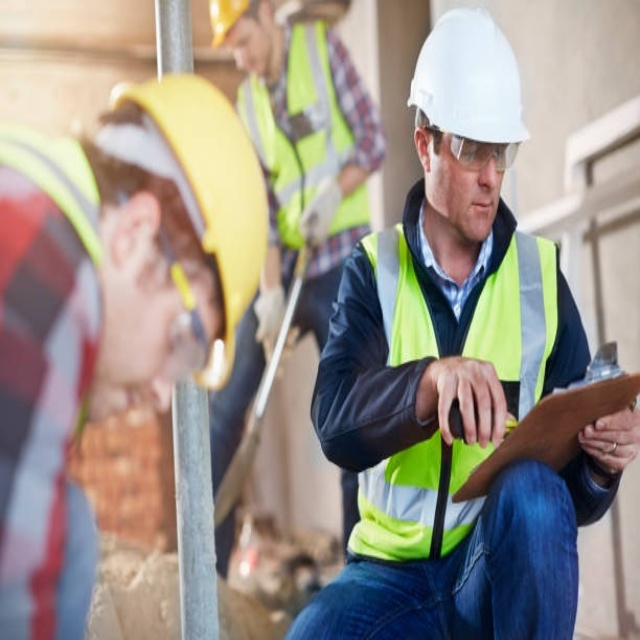Gafas: (118, 190, 213, 372), (421, 119, 524, 169)
Guantes: (252, 279, 303, 378), (297, 171, 346, 246)
Sin_guantes: (427, 356, 510, 451), (581, 400, 639, 475)
Sin_mascara: (91, 359, 152, 433), (458, 191, 498, 237)
